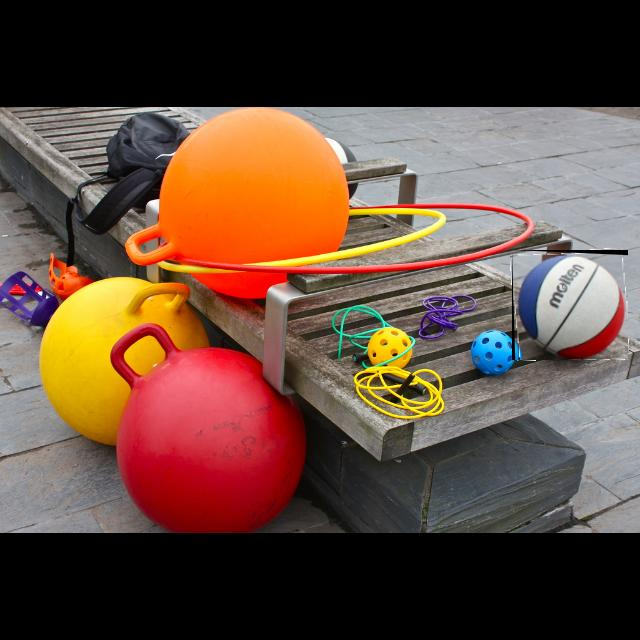Football: (512, 250, 628, 360)
